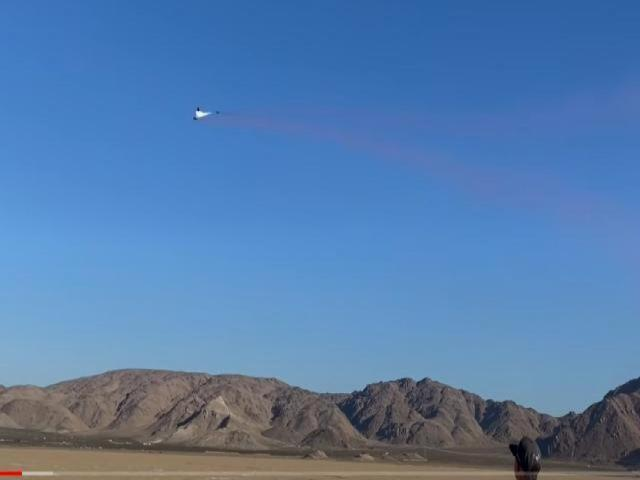iha: (193, 104, 218, 121)
